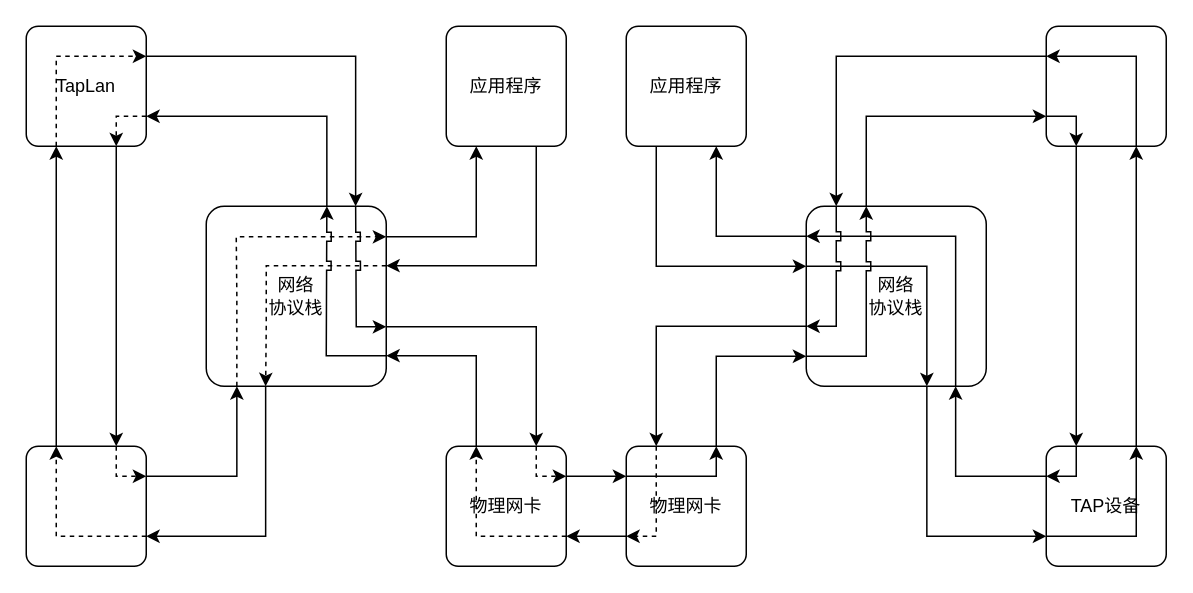
This 1193x593 diagram has some shape labels left out. Each missing label, with the centre of its shape:
TanLan: (x=1105, y=85)
TAP: (x=85, y=505)
